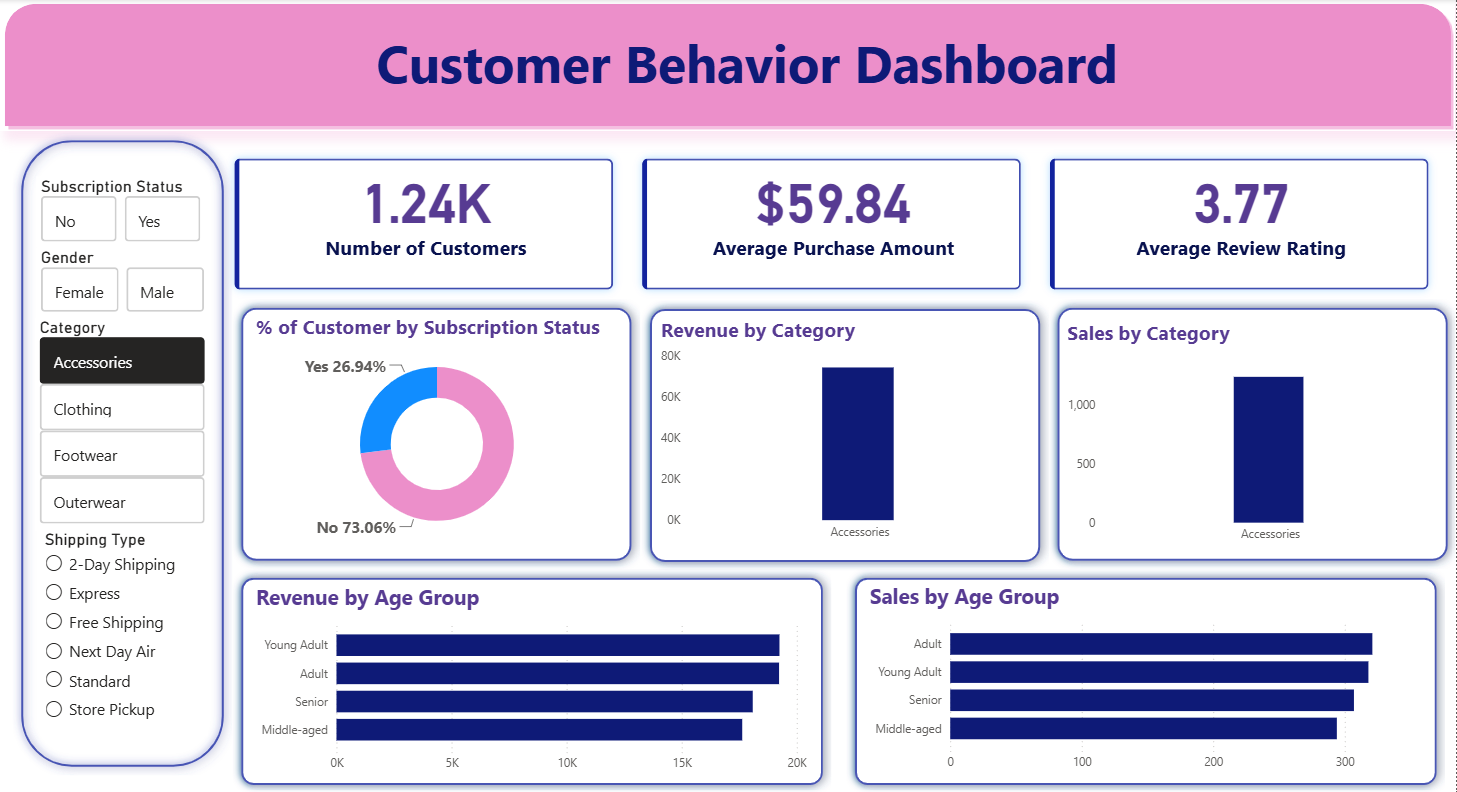

The page's visual inventory and layout, read from the dashboard file:
{"tool":"powerbi","page":{"name":"Page 1","canvas":[1500,820],"ordinal":0},"visuals":[{"type":"cardVisual","fields":{"Data":["customer_behavior customer.Number of Customers","customer_behavior customer.Average Purchase Amount","customer_behavior customer.Average Review Rating"]},"box":[213.3,136.7,1286.7,191.7],"z":0},{"type":"shape","box":[240,587.1,617.1,231.4],"z":1000},{"type":"shape","box":[0,0,1500,136],"z":2000},{"type":"clusteredBarChart","title":"Revenue by Age Group","fields":{"Y":["Sum(customer_behavior customer.purchase_amount)"],"Category":["customer_behavior customer.age_group"]},"box":[258.6,601.4,577.1,204.3],"z":3000},{"type":"textbox","box":[38,24,1462,100],"z":4000},{"type":"shape","box":[1080,308.6,420,278.6],"z":5000},{"type":"shape","box":[660,310,420,278.6],"z":6000},{"type":"clusteredColumnChart","title":"Revenue by Category","fields":{"Category":["customer_behavior customer.category"],"Y":["Sum(customer_behavior customer.purchase_amount)"]},"box":[675.7,327.1,390,240],"z":7000},{"type":"shape","box":[240,308.6,420,278.6],"z":8000},{"type":"clusteredColumnChart","title":"Sales by Category","fields":{"Category":["customer_behavior customer.category"],"Y":["CountNonNull(customer_behavior customer.customer_id)"]},"box":[1094.3,330,390,240],"z":9000},{"type":"shape","box":[13.3,136.7,226.7,663.3],"z":10000},{"type":"advancedSlicerVisual","title":"Gender","fields":{"Values":["customer_behavior customer.gender"]},"box":[37.9,255.6,179.8,71.6],"z":11000},{"type":"advancedSlicerVisual","title":"Subscription Status","fields":{"Values":["customer_behavior customer.subscription_status"]},"box":[37.9,182.6,175.6,73],"z":12000},{"type":"advancedSlicerVisual","title":"Category","fields":{"Values":["customer_behavior customer.category"]},"box":[36.1,328.4,180.3,218.9],"z":13000},{"type":"listSlicer","title":"Shipping Type","fields":{"Values":["customer_behavior customer.shipping_type"]},"box":[41.2,546,172.6,213.8],"z":14000},{"type":"donutChart","title":"% of Customer by Subscription Status","fields":{"Category":["customer_behavior customer.subscription_status"],"Y":["CountNonNull(customer_behavior customer.customer_id)"]},"box":[258.6,322.9,382.9,244.3],"z":15000},{"type":"shape","box":[871.4,587.1,617.1,231.4],"z":16000},{"type":"clusteredBarChart","title":"Sales by Age Group","fields":{"Y":["CountNonNull(customer_behavior customer.customer_id)"],"Category":["customer_behavior customer.age_group"]},"box":[891.4,600,577.1,204.3],"z":17000}]}

Visuals, with their boxes in screenshot pixels (x1, y1, x2, y2), scaled from the page's 1500x820 canvas onto the 1457x792 screenshot:
cardVisual - customer_behavior customer.Number of Customers x customer_behavior customer.Average Purchase Amount: <region>207, 132, 1456, 317</region>
shape: <region>233, 567, 833, 791</region>
shape: <region>0, 0, 1456, 131</region>
"Revenue by Age Group" clusteredBarChart: <region>251, 581, 812, 778</region>
textbox: <region>37, 23, 1456, 120</region>
shape: <region>1049, 298, 1456, 567</region>
shape: <region>641, 299, 1049, 569</region>
"Revenue by Category" clusteredColumnChart: <region>656, 316, 1035, 548</region>
shape: <region>233, 298, 641, 567</region>
"Sales by Category" clusteredColumnChart: <region>1063, 319, 1442, 551</region>
shape: <region>13, 132, 233, 773</region>
"Gender" advancedSlicerVisual: <region>37, 247, 211, 316</region>
"Subscription Status" advancedSlicerVisual: <region>37, 176, 207, 247</region>
"Category" advancedSlicerVisual: <region>35, 317, 210, 529</region>
"Shipping Type" listSlicer: <region>40, 527, 208, 734</region>
"% of Customer by Subscription Status" donutChart: <region>251, 312, 623, 548</region>
shape: <region>846, 567, 1446, 791</region>
"Sales by Age Group" clusteredBarChart: <region>866, 580, 1426, 777</region>
